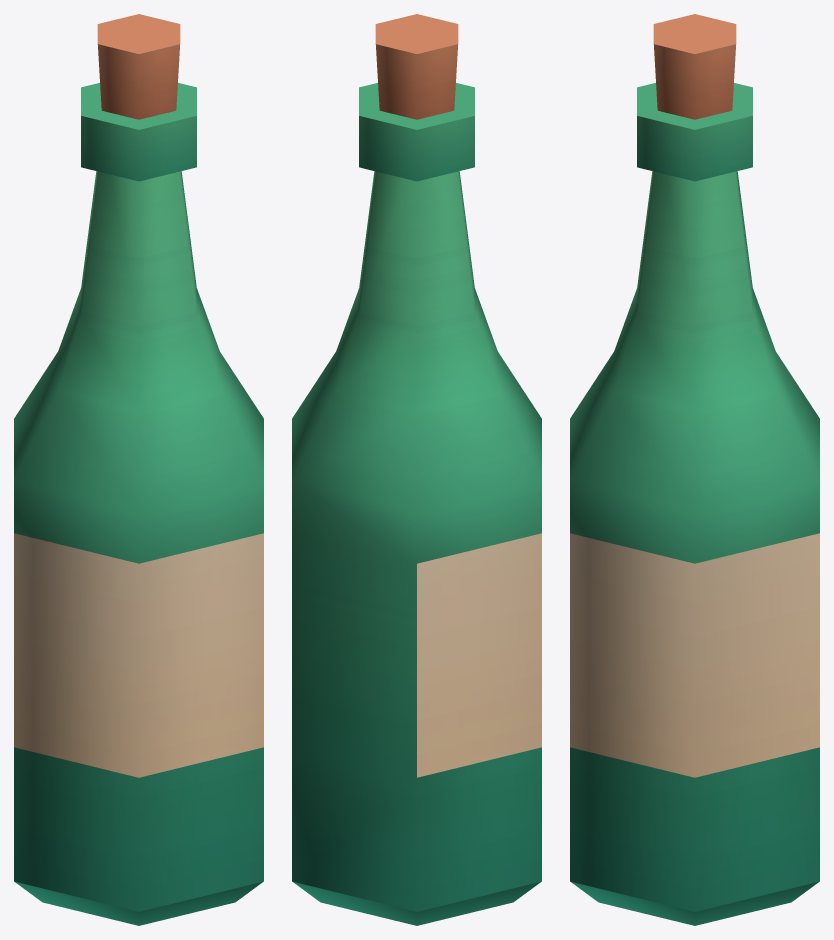
Rendered from bottle-white.glb.
3 views of the same model, side by side, from view 1: azimuth 30°, elevation 25°; view 2: azimuth 150°, elevation 25°; view 3: azimuth 270°, elevation 25° (orthographic).
Visible parts, largest first — view 1: wine-white; view 2: wine-white; view 3: wine-white.
Part boxes in pixels (x1,y1,x2,y2): wine-white: (14,14,263,925); wine-white: (292,14,541,925); wine-white: (570,14,819,925).
Size of the model in its own units: 0.2028 by 0.6556 by 0.1756.
1 material, 1 textured.
